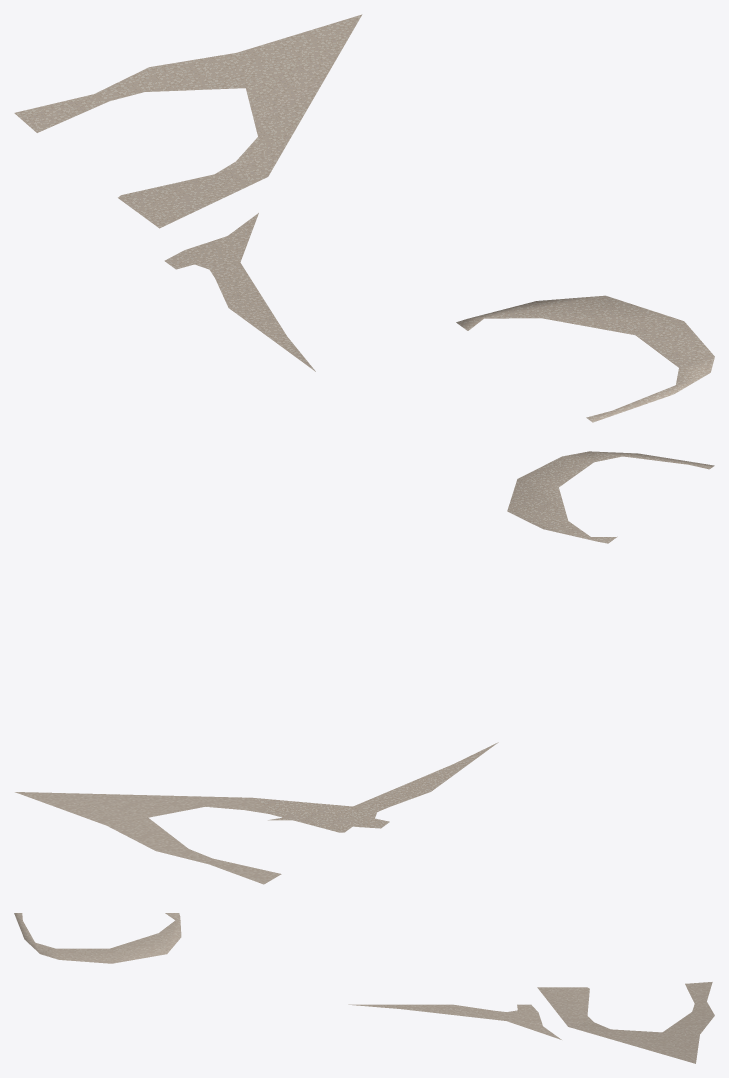
File: kd_stage_13612f_2_4_bounded.glb
3 views of the same model, one above another, from view 1: azimuth 30°, elevation 25°; view 2: azimuth 150°, elevation 25°; view 3: azimuth 270°, elevation 25° (orthographic). The views are drawn at different scales.
Visible parts, largest first — view 1: kd_stage_13612f_2_4_bounded; view 2: kd_stage_13612f_2_4_bounded; view 3: kd_stage_13612f_2_4_bounded.
Boxes of the visible parts, x1,y1,x2,y2 form: kd_stage_13612f_2_4_bounded: [14, 14, 714, 422]; kd_stage_13612f_2_4_bounded: [15, 451, 714, 884]; kd_stage_13612f_2_4_bounded: [14, 913, 714, 1063].
Size of the model in its own units: 24.19 by 10.5 by 72.71.
Materials: 1 (1 with a texture image).
